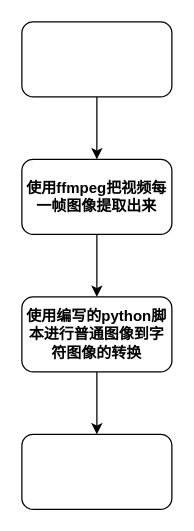
Image size: 194x531. Some labels were removed from this diagram. Each missing label, with the centre of its shape:
"下载需要进行转字符画的视频" belongs at point 96,59.
"使用ffmpeg把转换好的字符图像转换成视频" belongs at point 96,471.
